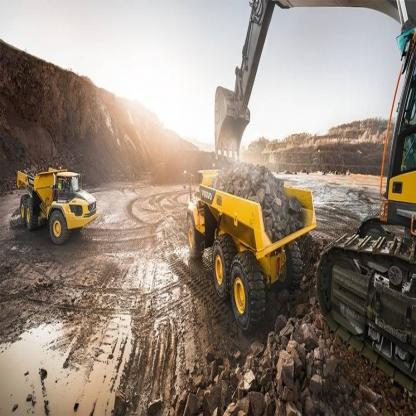dump_truck: (176, 158, 317, 325), (14, 158, 99, 250)
